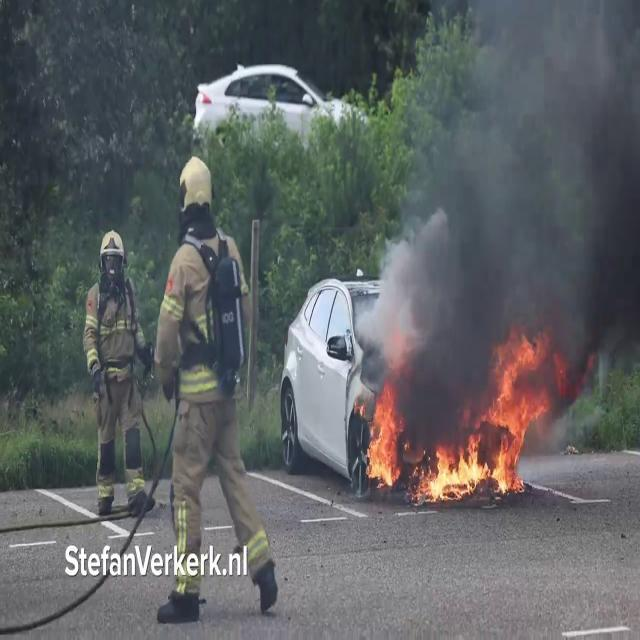Fire: (421, 332, 549, 504), (422, 432, 510, 506), (364, 380, 402, 490)
Smoke: (366, 1, 640, 413)
